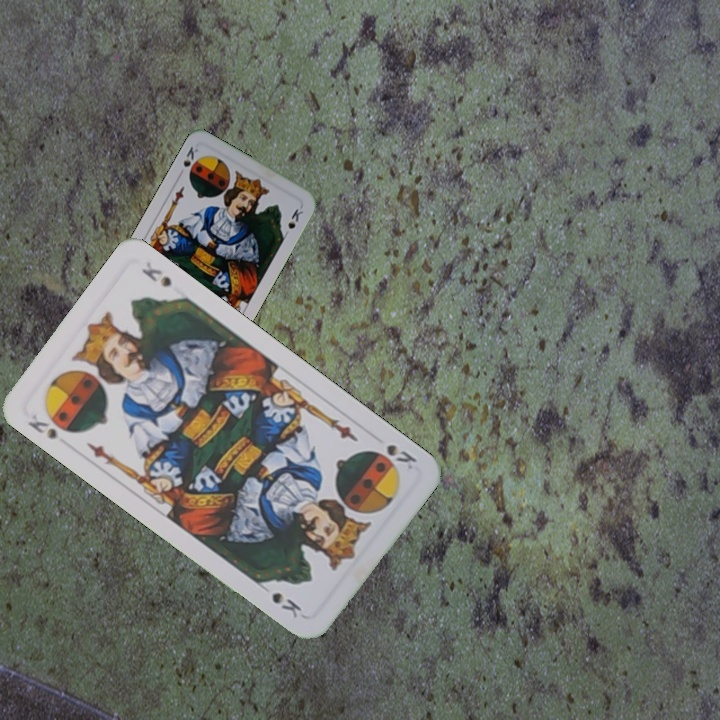SK: (366, 440, 420, 473), (23, 410, 61, 443), (179, 142, 201, 180)
